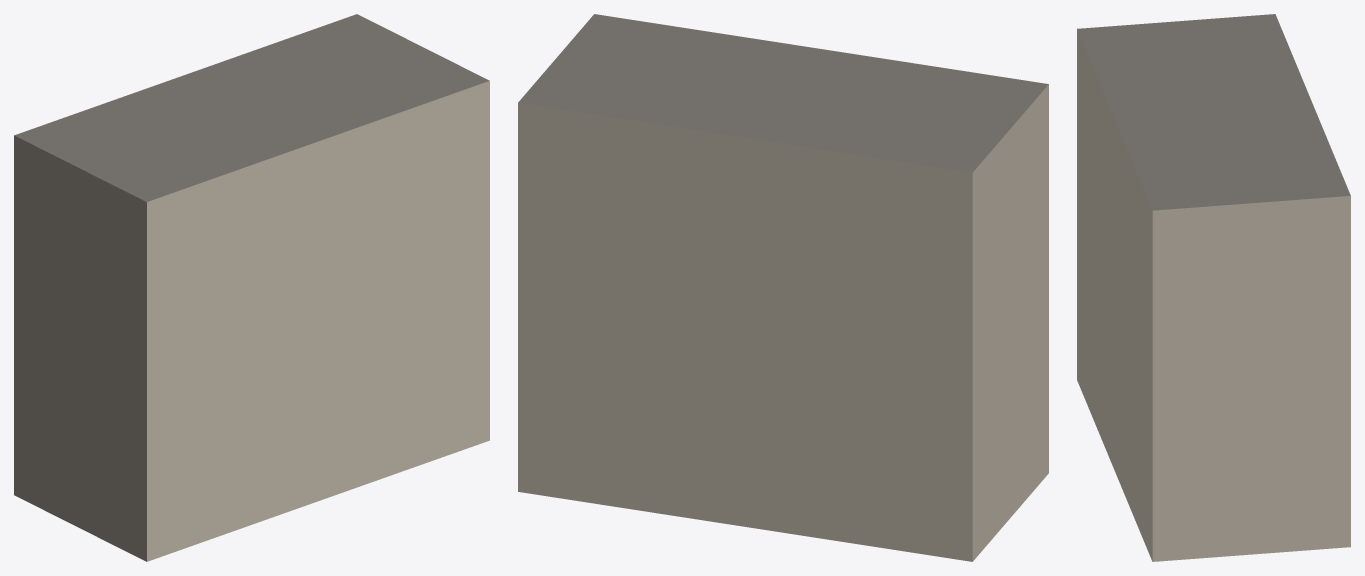
3 renders of one model, left to right at view 1: azimuth 30°, elevation 25°; view 2: azimuth 150°, elevation 25°; view 3: azimuth 270°, elevation 25°, orthographic. The views are drawn at different scales.
Parts seen in each view (by area): view 1: HP-w1467932125; view 2: HP-w1467932125; view 3: HP-w1467932125.
Part boxes in pixels (<box>): HP-w1467932125: <box>14,14,489,561</box>; HP-w1467932125: <box>518,14,1048,561</box>; HP-w1467932125: <box>1077,14,1350,561</box>.
Bounding box in the file's own units: 21.61 × 18 × 12.72.
